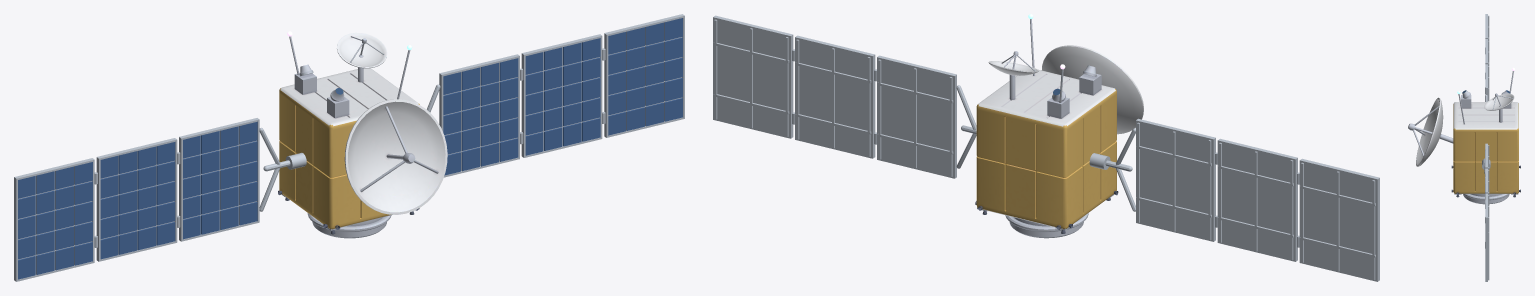
Rendered from satellite.glb.
3 views of the same model, side by side, from view 1: azimuth 30°, elevation 25°; view 2: azimuth 150°, elevation 25°; view 3: azimuth 270°, elevation 25° (orthographic). The views are drawn at different scales.
Parts seen in each view (by area): view 1: satellite_solar_wing_l, satellite_solar_wing_r, satellite_body; view 2: satellite_solar_wing_l, satellite_solar_wing_r, satellite_body; view 3: satellite_body, satellite_solar_wing_r, satellite_solar_wing_l.
Part boxes in pixels (<box>): satellite_solar_wing_l: <box>14,118,306,281</box>; satellite_solar_wing_r: <box>427,14,684,177</box>; satellite_body: <box>278,32,447,238</box>; satellite_solar_wing_l: <box>1089,118,1379,281</box>; satellite_solar_wing_r: <box>713,15,976,178</box>; satellite_body: <box>975,19,1143,238</box>; satellite_body: <box>1408,71,1520,204</box>; satellite_solar_wing_r: <box>1482,143,1490,281</box>; satellite_solar_wing_l: <box>1485,14,1489,101</box>.
Size of the model in its own units: 13.22 by 3.5 by 3.1.
8 materials, 1 textured.
